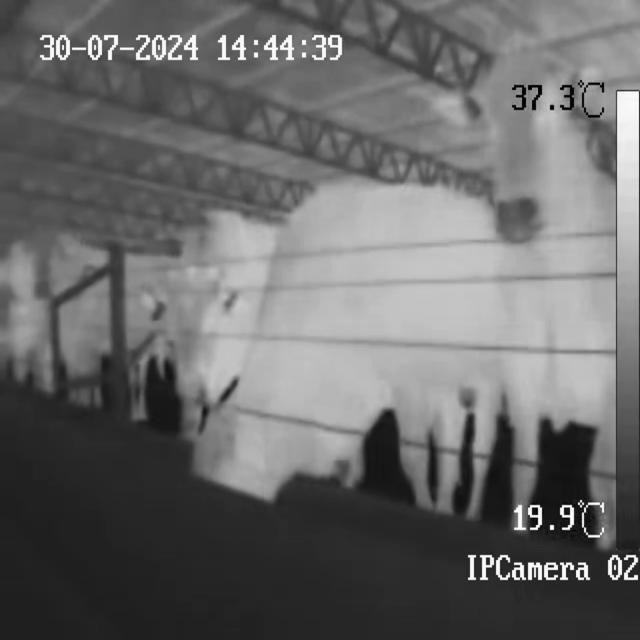eye: (534, 96, 552, 119), (203, 308, 214, 338)
head: (470, 39, 572, 245), (165, 266, 222, 404)
